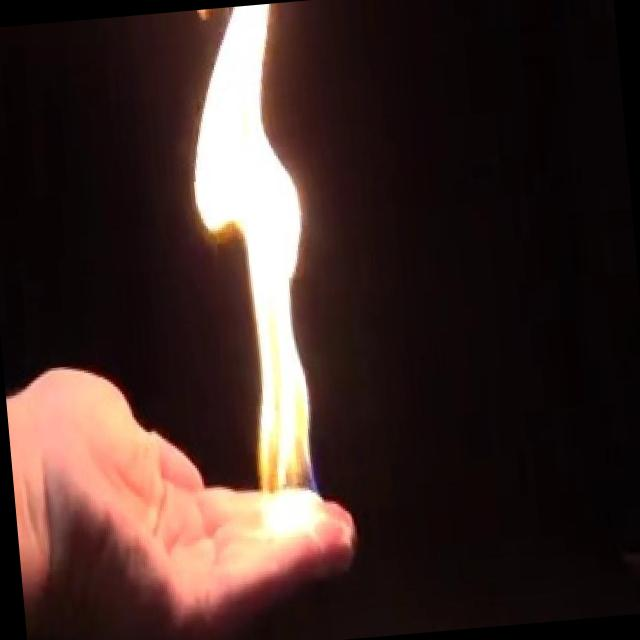Fire: (172, 1, 337, 532)
